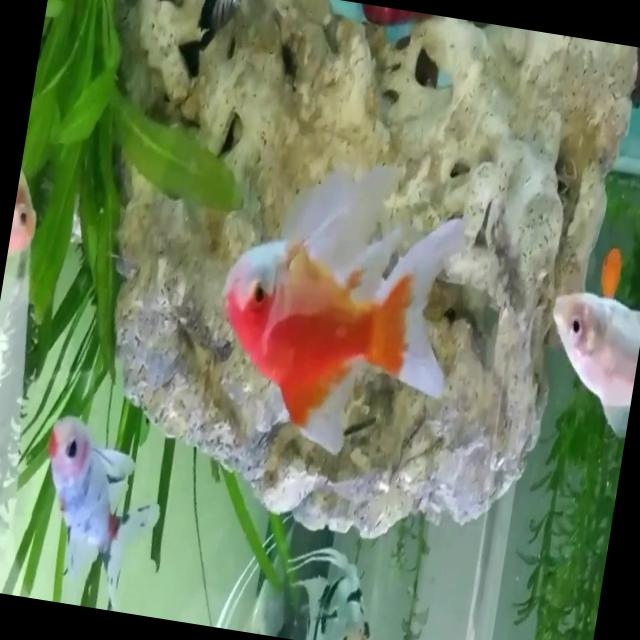GoldFish: (186, 135, 491, 492)
